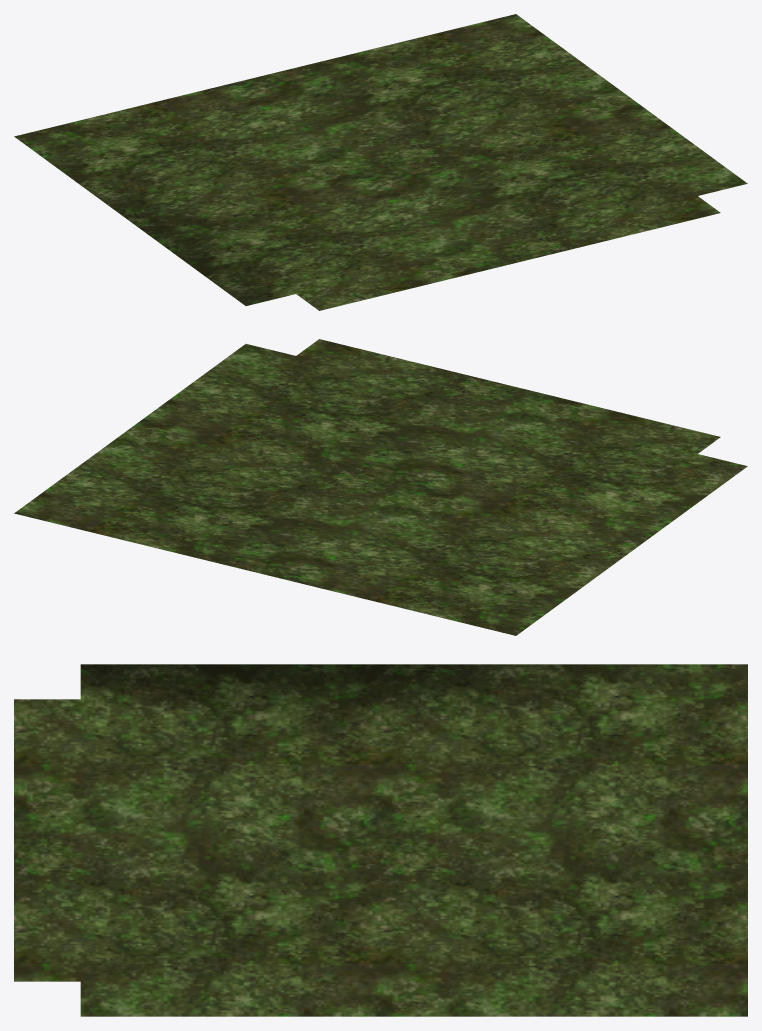
File: OVERHILL_A_01_OBJECT71.fbx
The picture shows the model from 3 angles, top to bottom: view 1: azimuth 30°, elevation 25°; view 2: azimuth 150°, elevation 25°; view 3: azimuth 270°, elevation 25°; orthographic projection. The views are drawn at different scales.
Visible parts, largest first — view 1: OVERHILL_A_01_OBJECT71; view 2: OVERHILL_A_01_OBJECT71; view 3: OVERHILL_A_01_OBJECT71.
Boxes of the visible parts, x1=… form: OVERHILL_A_01_OBJECT71: x1=14, y1=14, x2=747, y2=310; OVERHILL_A_01_OBJECT71: x1=14, y1=339, x2=747, y2=635; OVERHILL_A_01_OBJECT71: x1=14, y1=664, x2=747, y2=1016.
Bounding box in the file's own units: 50000 × 0.036 × 44000.
Materials: 1 (1 with a texture image).
